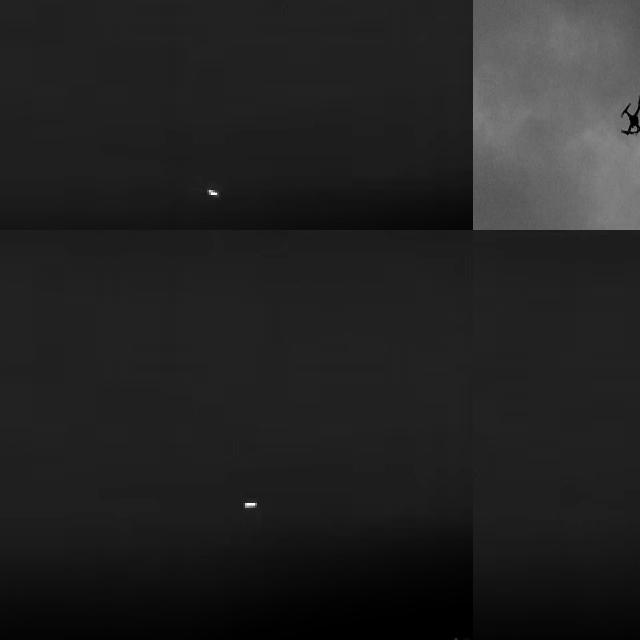1: (233, 494, 267, 524), (198, 182, 230, 210)
drone: (617, 93, 640, 141)
